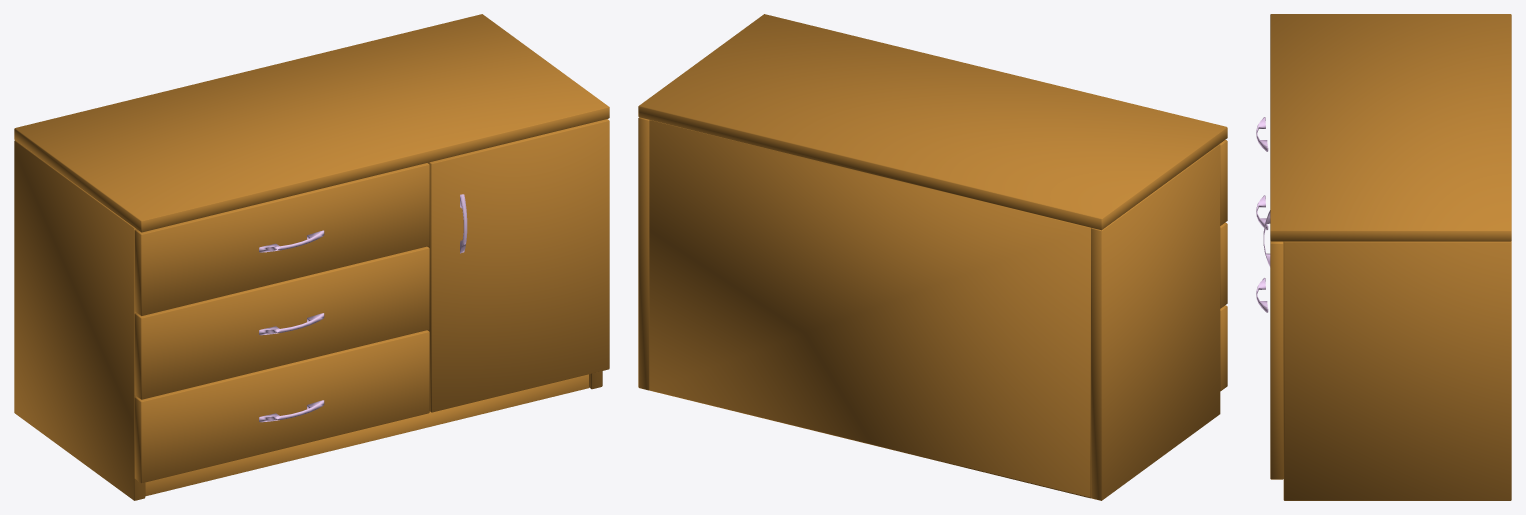
The picture shows the model from 3 angles, left to right: view 1: azimuth 30°, elevation 25°; view 2: azimuth 150°, elevation 25°; view 3: azimuth 270°, elevation 25°; orthographic projection. The views are drawn at different scales.
Visible parts, largest first — view 1: Box002; view 2: Box002; view 3: Box002.
Part boxes in pixels (x1,y1,x2,y2): Box002: (14, 14, 609, 500); Box002: (638, 14, 1227, 500); Box002: (1270, 14, 1511, 500).
Size of the model in its own units: 1.62 by 0.9402 by 0.8035.
